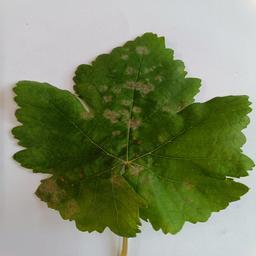Powdery-Mildew: (43, 181, 80, 218), (110, 163, 155, 192), (106, 103, 146, 134), (126, 75, 153, 100), (100, 81, 121, 101), (181, 176, 197, 193)
